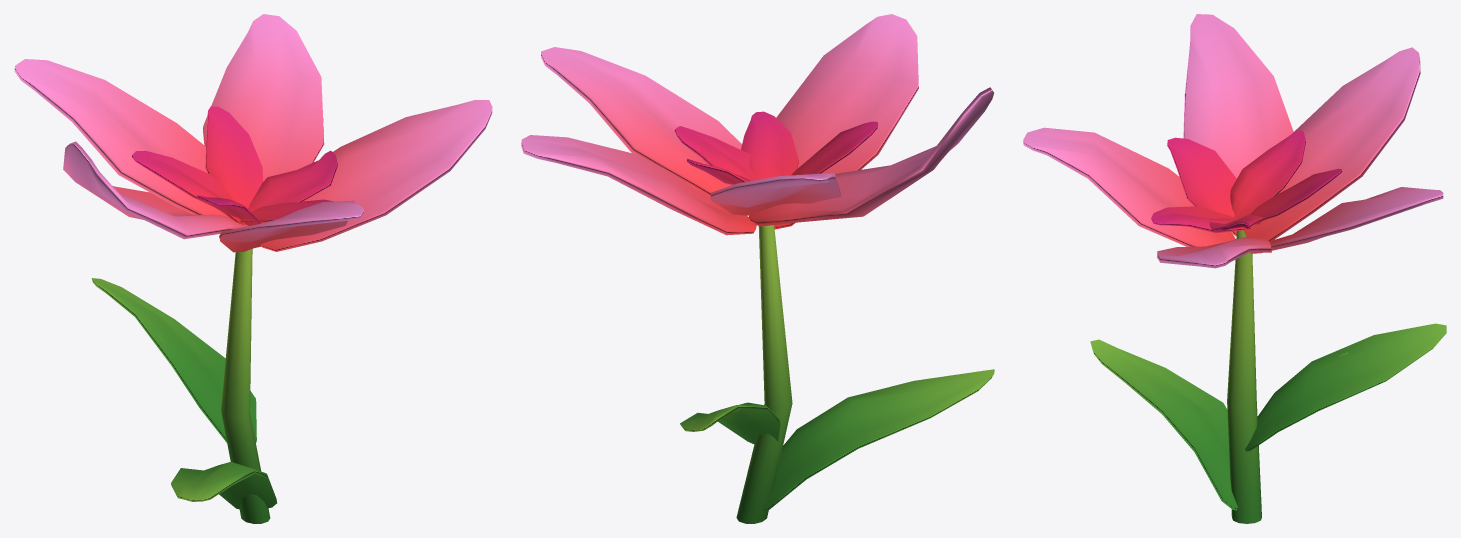
Rendered from flower_open_03.fbx.
3 views of the same model, side by side, from view 1: azimuth 30°, elevation 25°; view 2: azimuth 150°, elevation 25°; view 3: azimuth 270°, elevation 25° (orthographic). The views are drawn at different scales.
Parts seen in each view (by area): view 1: petals1, open_stem; view 2: petals1, open_stem; view 3: petals1, open_stem.
Part boxes in pixels (bbox=[...]): petals1: bbox=[14, 14, 492, 252]; open_stem: bbox=[91, 249, 276, 523]; petals1: bbox=[521, 14, 993, 235]; open_stem: bbox=[680, 225, 994, 523]; petals1: bbox=[1023, 14, 1443, 268]; open_stem: bbox=[1090, 230, 1446, 523].
Size of the model in its own units: 1.65 by 1.64 by 1.53.
